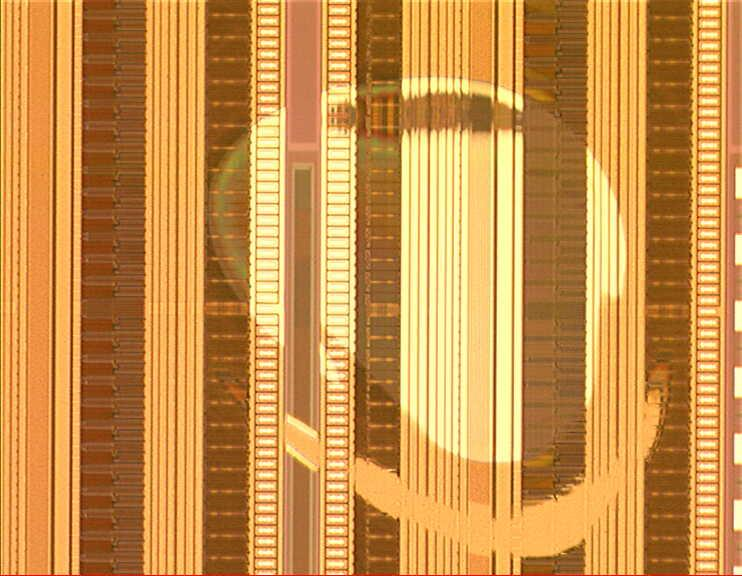BLOCK ETCH: (176, 43, 676, 562)
